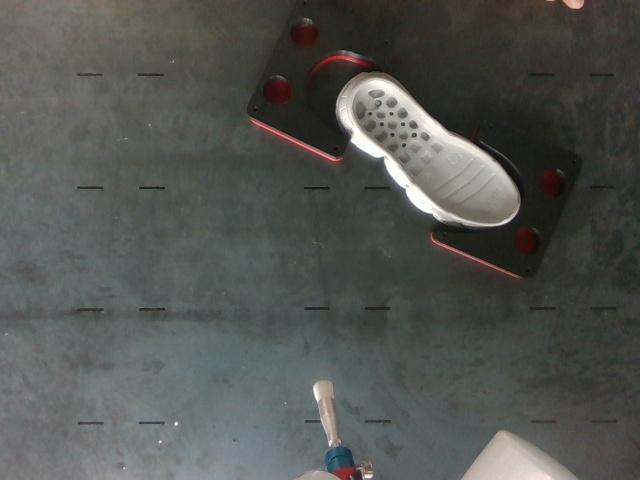shoes: (352, 81, 519, 224)
